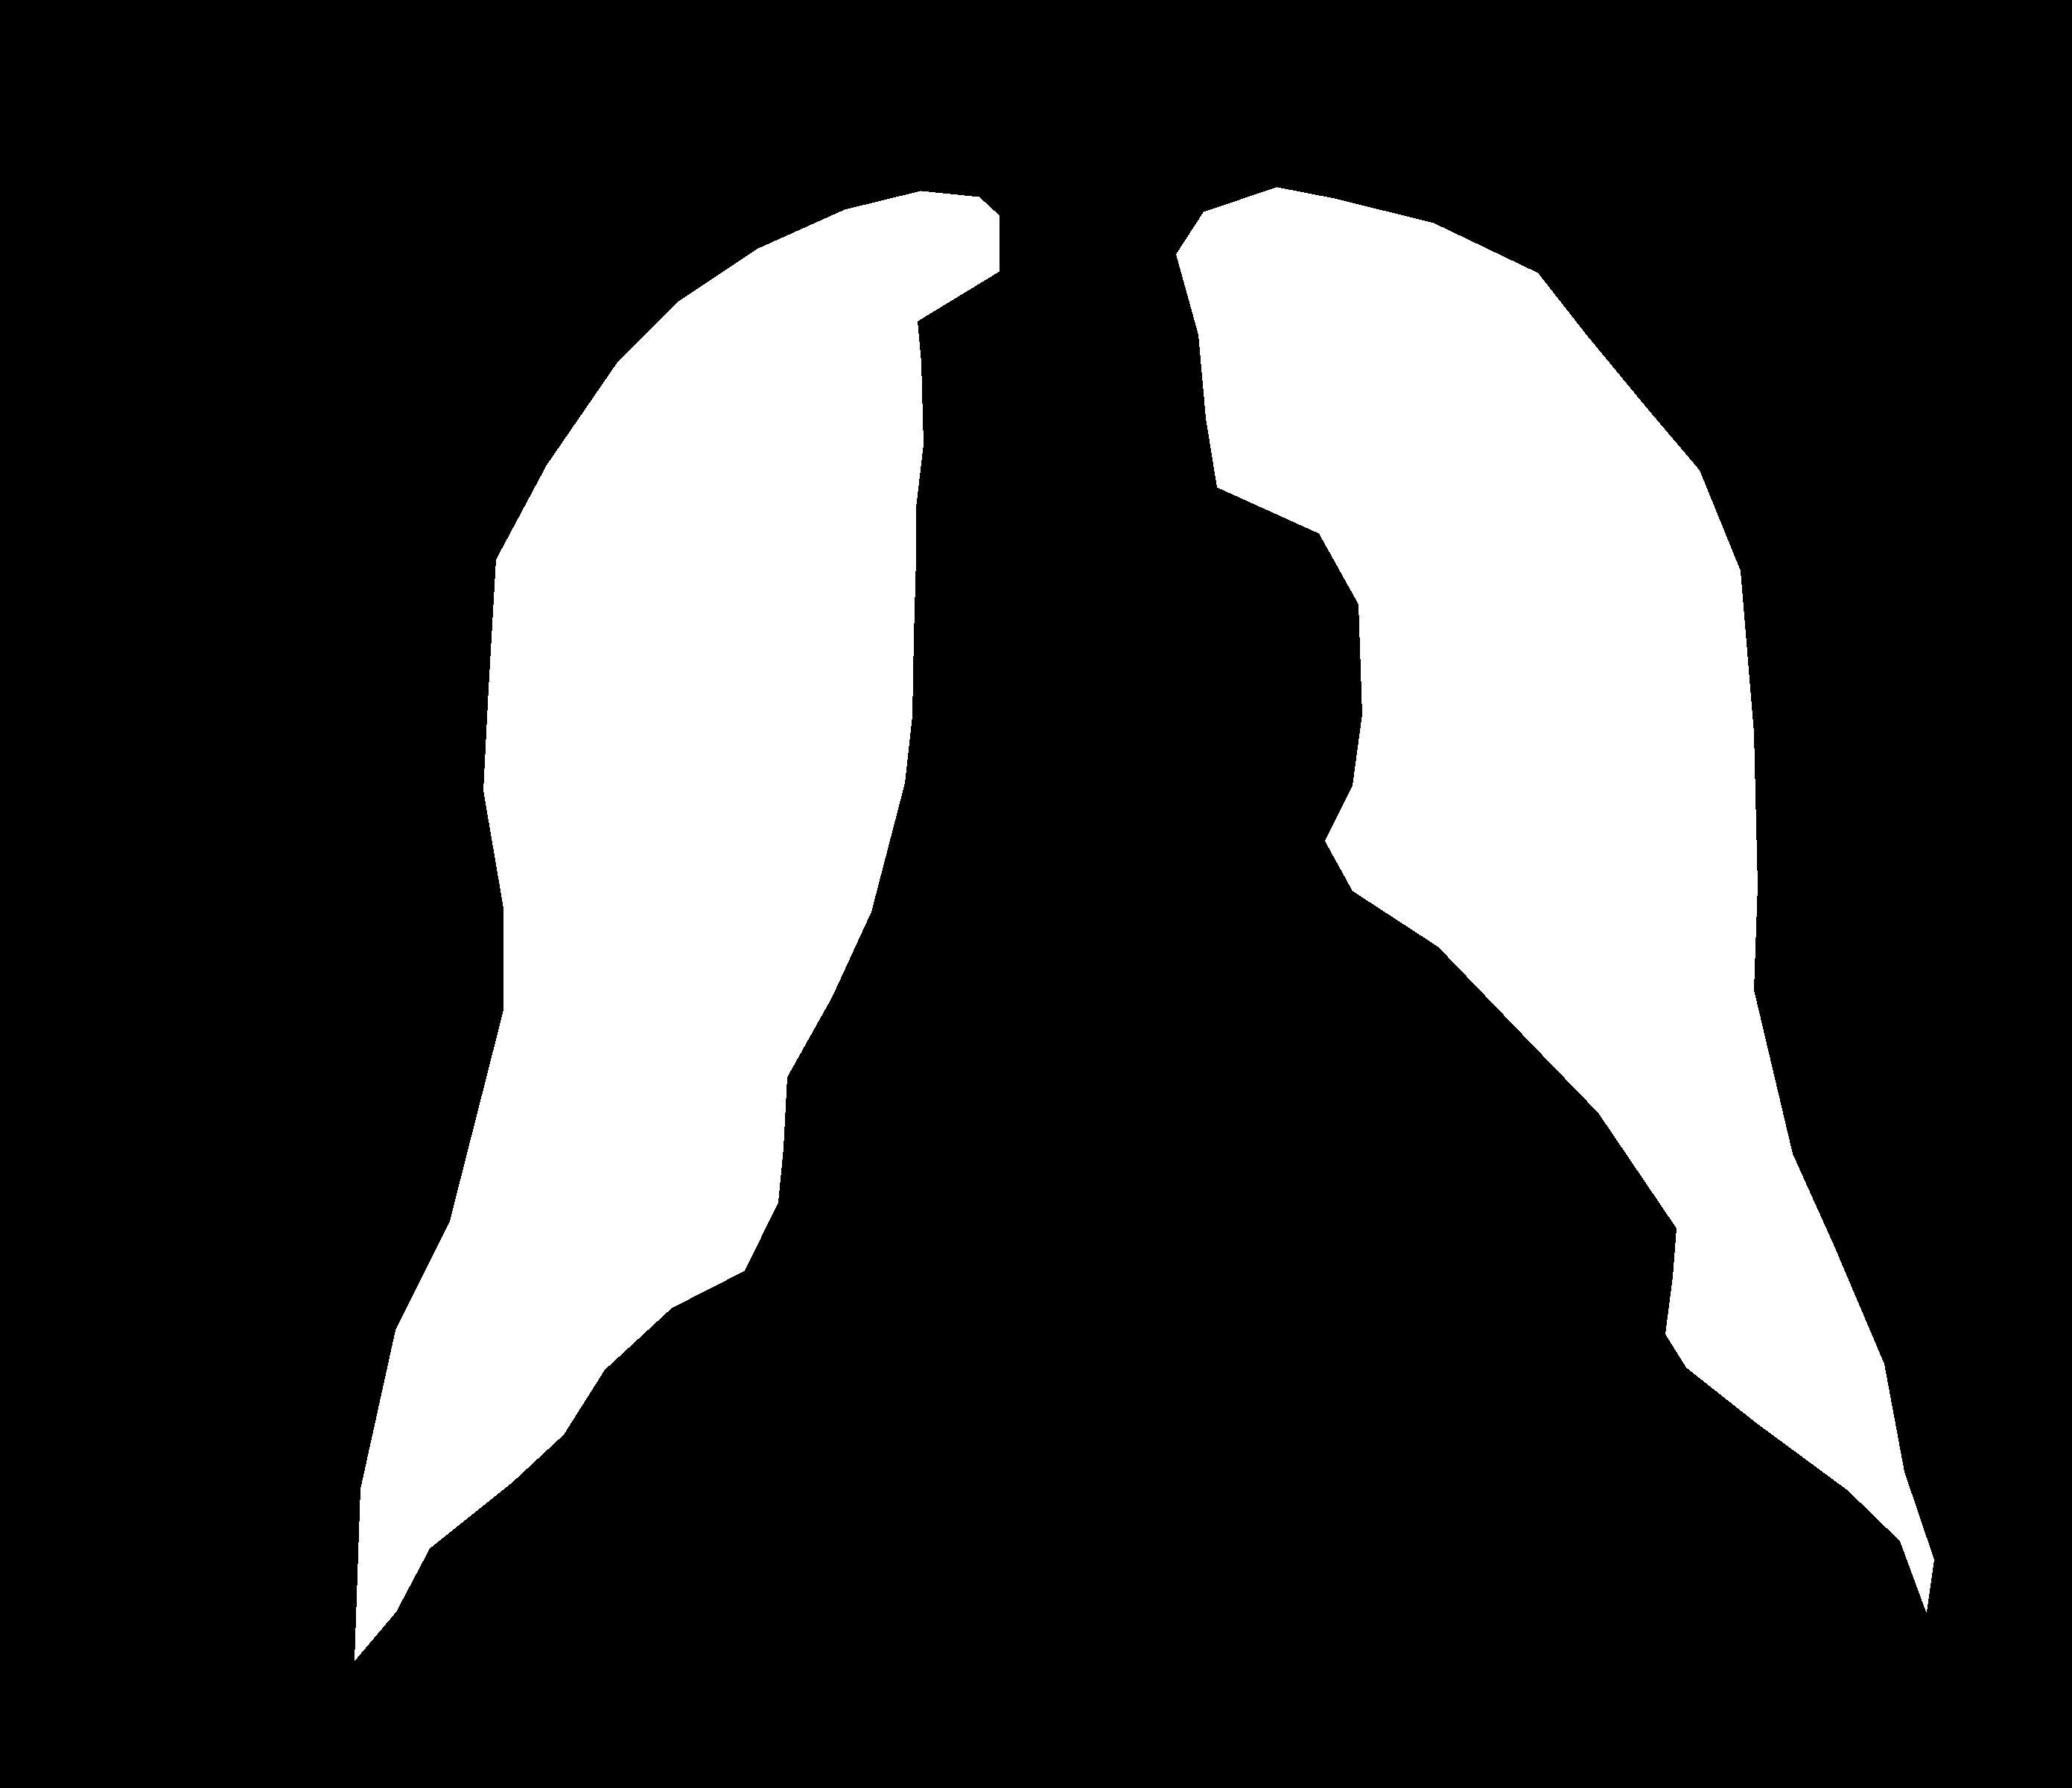heart: (682, 726, 1686, 1469)
left_lung: (354, 190, 999, 1659)
right_lung: (1175, 187, 1933, 1612)
